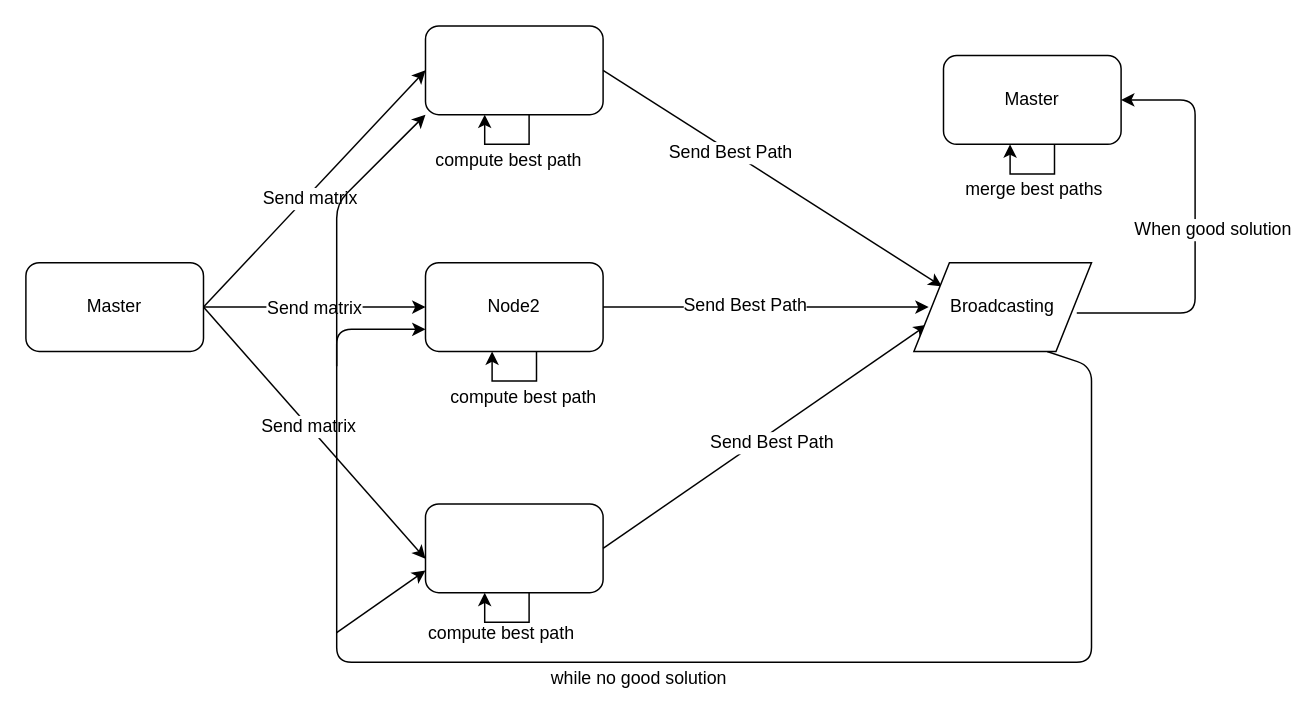
Image size: 1316x713. Some labels were removed from this diagram. The shapes that lost their labels are listed below. From the top down, each one's centre as x and y in pixels, then its label:
At point 513,69: "Node1".
At point 513,547: "Node3".
